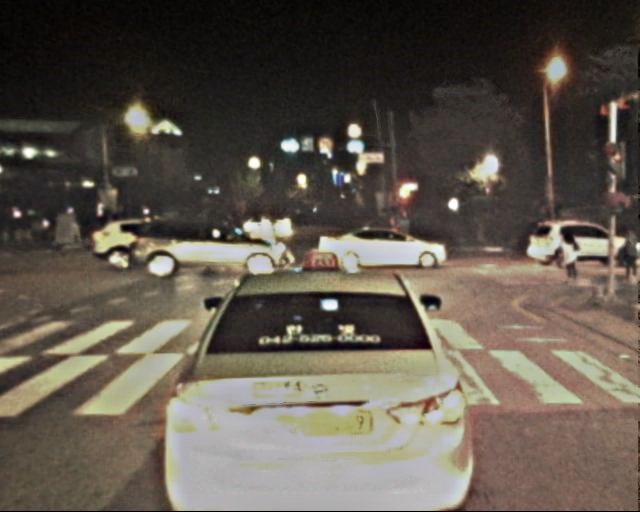person: (559, 228, 583, 285), (617, 228, 639, 286)
